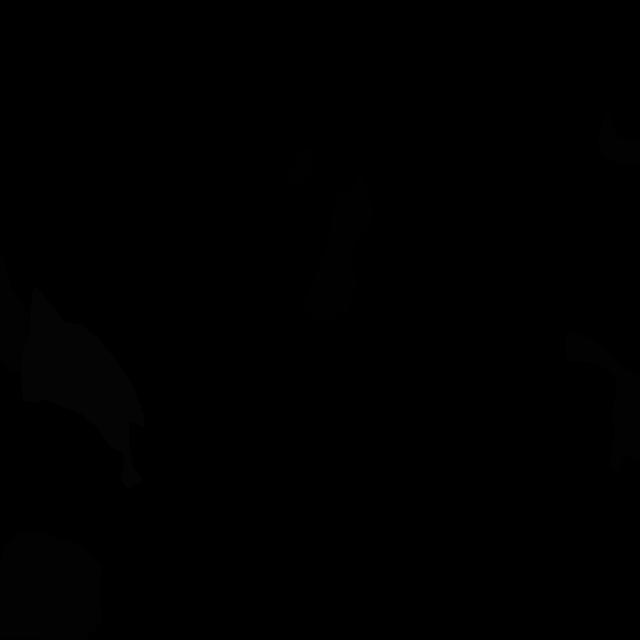cardboard: (0, 532, 103, 640), (564, 331, 640, 472), (0, 255, 30, 374), (598, 115, 640, 164)
rigid_plastic: (304, 172, 374, 321), (288, 147, 314, 188)
soft_plastic: (20, 288, 144, 490)
